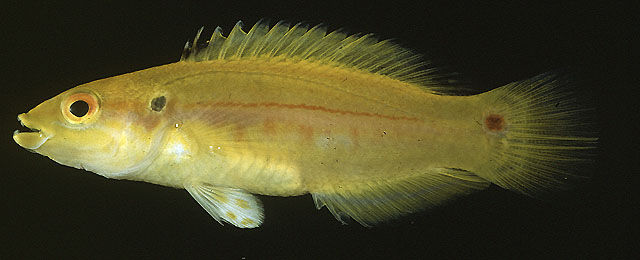fish: (13, 18, 595, 227)
